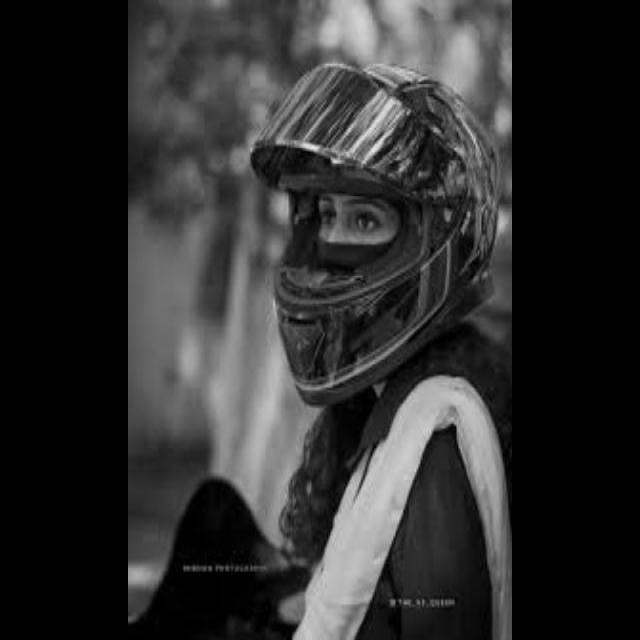5_casco: (252, 55, 498, 385)
